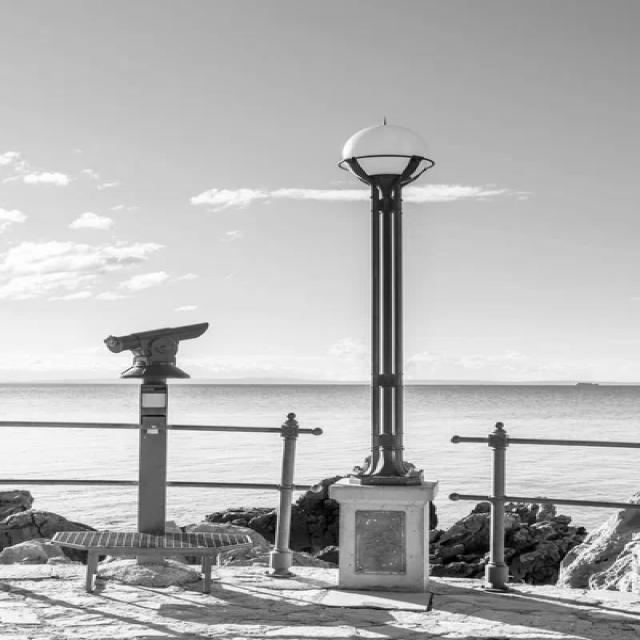Pole: (339, 120, 435, 487), (104, 323, 208, 536)
